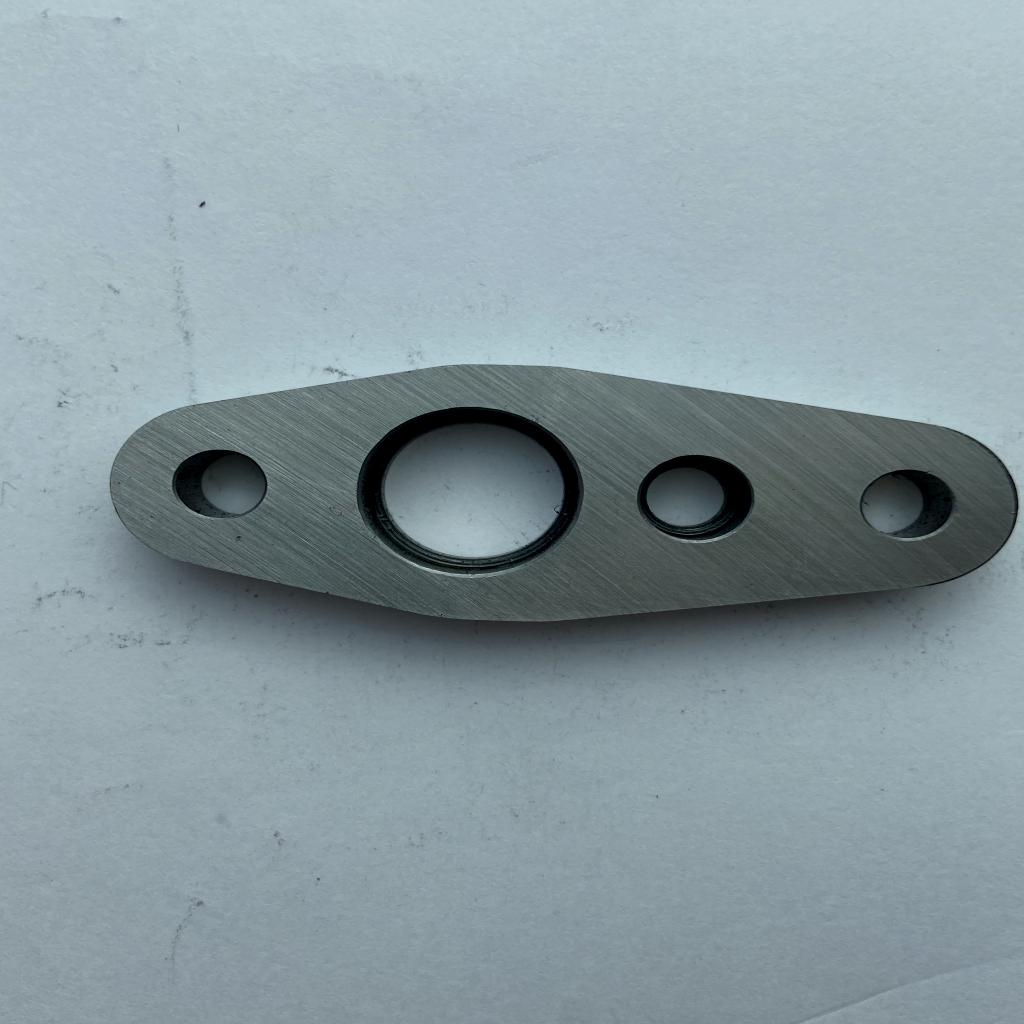chap: (531, 413, 545, 425), (231, 533, 245, 544), (923, 468, 936, 475), (1007, 510, 1018, 516)
